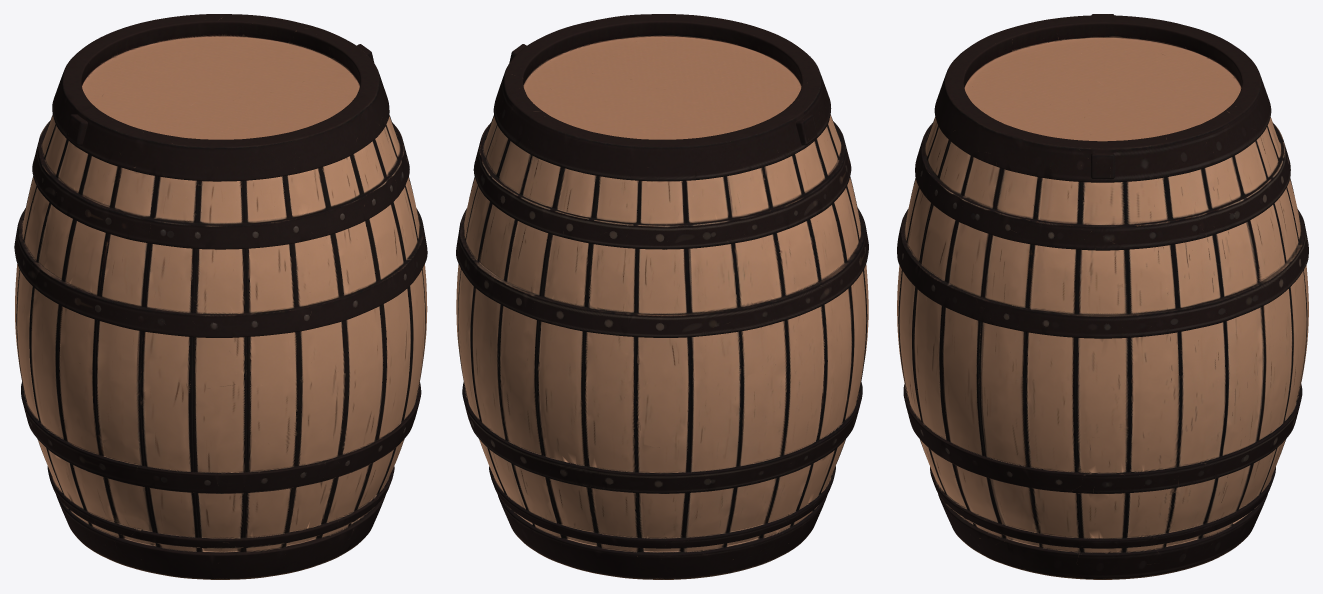
File: barile_legno.glb
The picture shows the model from 3 angles, left to right: view 1: azimuth 30°, elevation 25°; view 2: azimuth 150°, elevation 25°; view 3: azimuth 270°, elevation 25°; orthographic projection.
Visible parts, largest first — view 1: Mesh_0.002; view 2: Mesh_0.002; view 3: Mesh_0.002.
Boxes of the visible parts, x1,y1,x2,y2 form: Mesh_0.002: (14,14,427,579); Mesh_0.002: (456,14,868,579); Mesh_0.002: (897,14,1308,579).
Size of the model in its own units: 0.7748 by 0.9 by 0.7745.
Materials: 1 (1 with a texture image).
